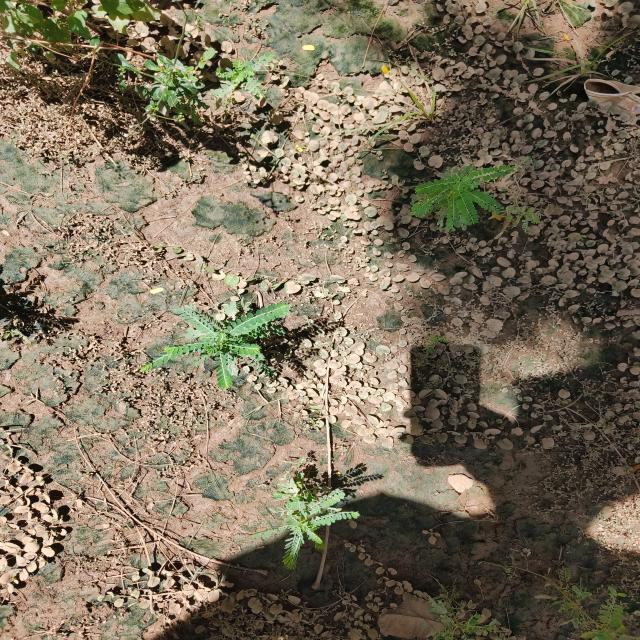weed: (10, 18, 269, 126), (140, 300, 297, 388), (391, 162, 523, 241), (269, 474, 357, 558)
